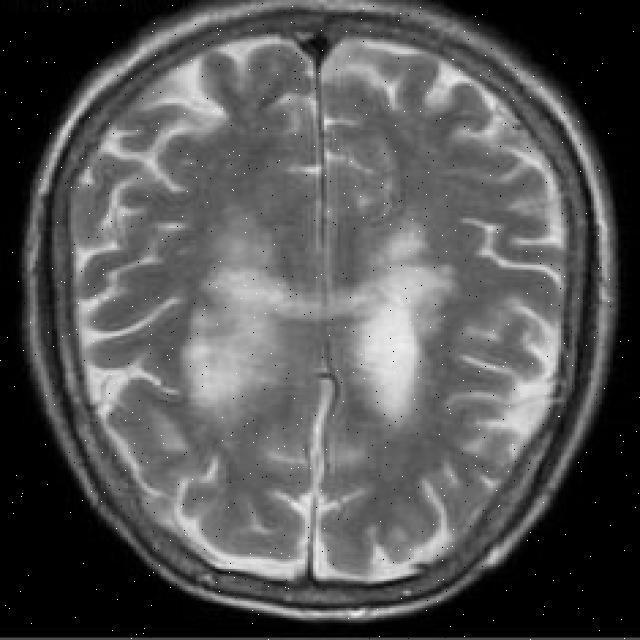No_Tumor: (24, 0, 616, 621)
